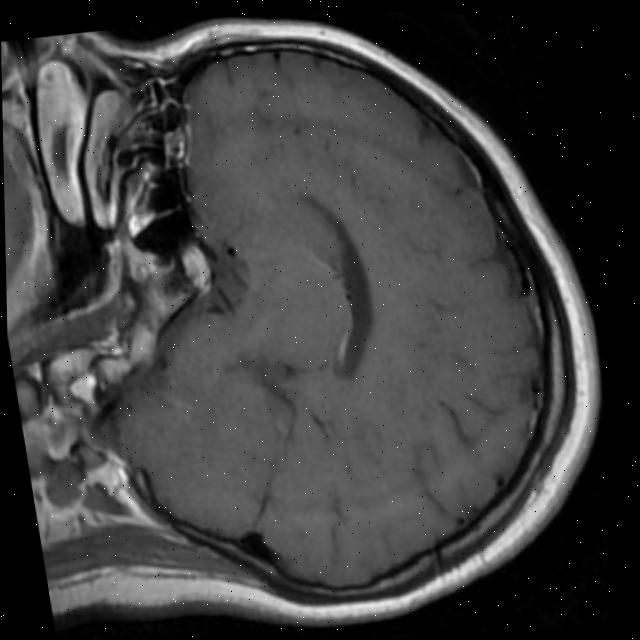Pituitary: (178, 244, 215, 297)
